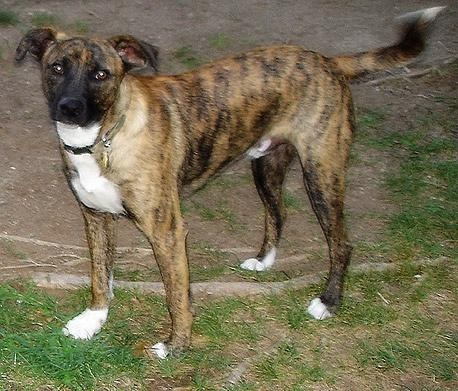dog: (14, 6, 448, 362)
